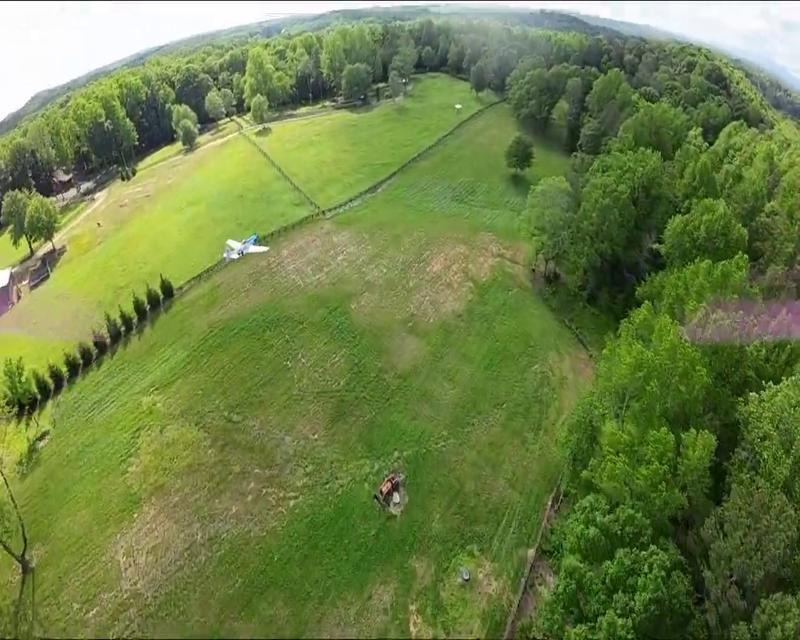UAV: (225, 232, 270, 264)
